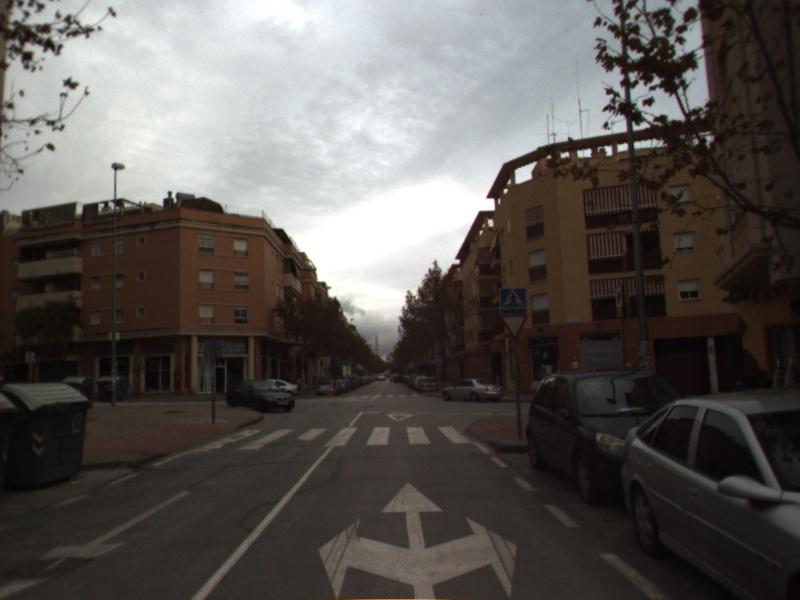STRAIGHT_LEFT_RIGHT: (315, 479, 521, 600)
